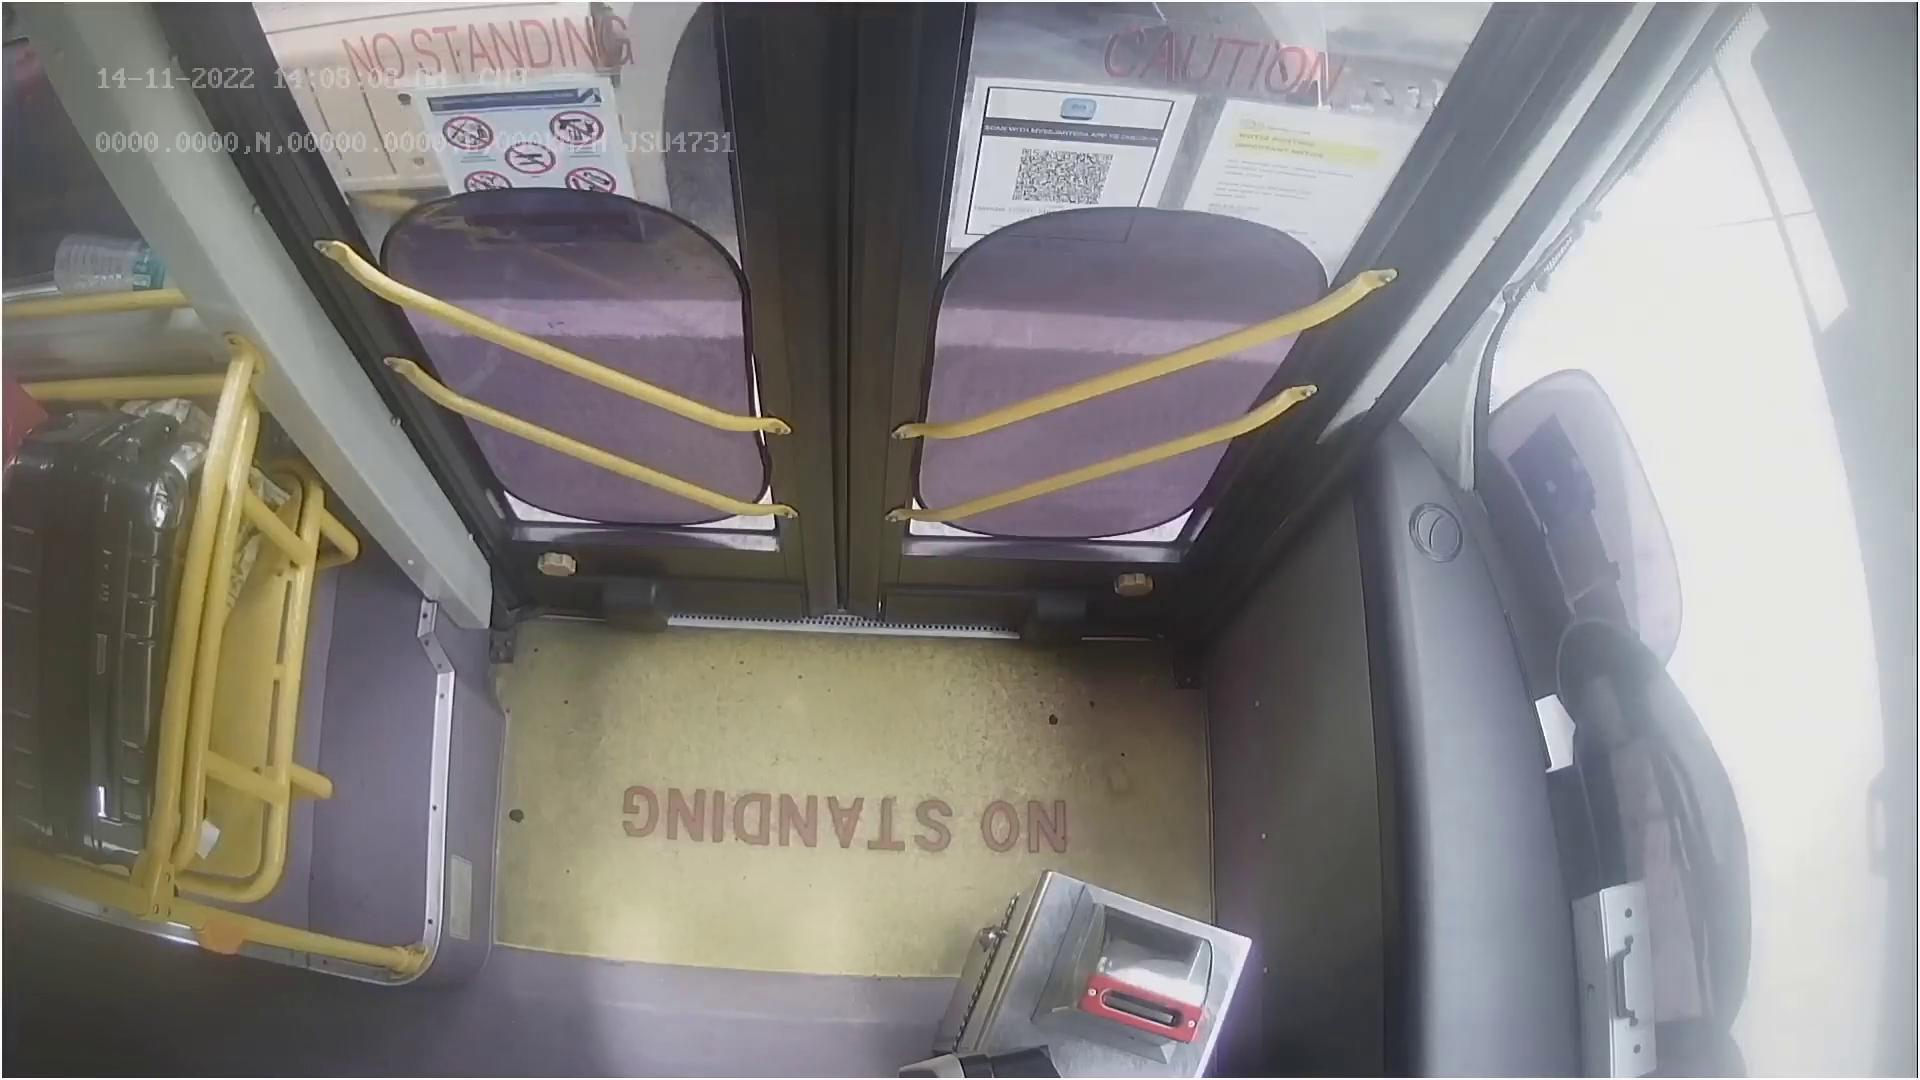close: (282, 0, 1444, 164)
